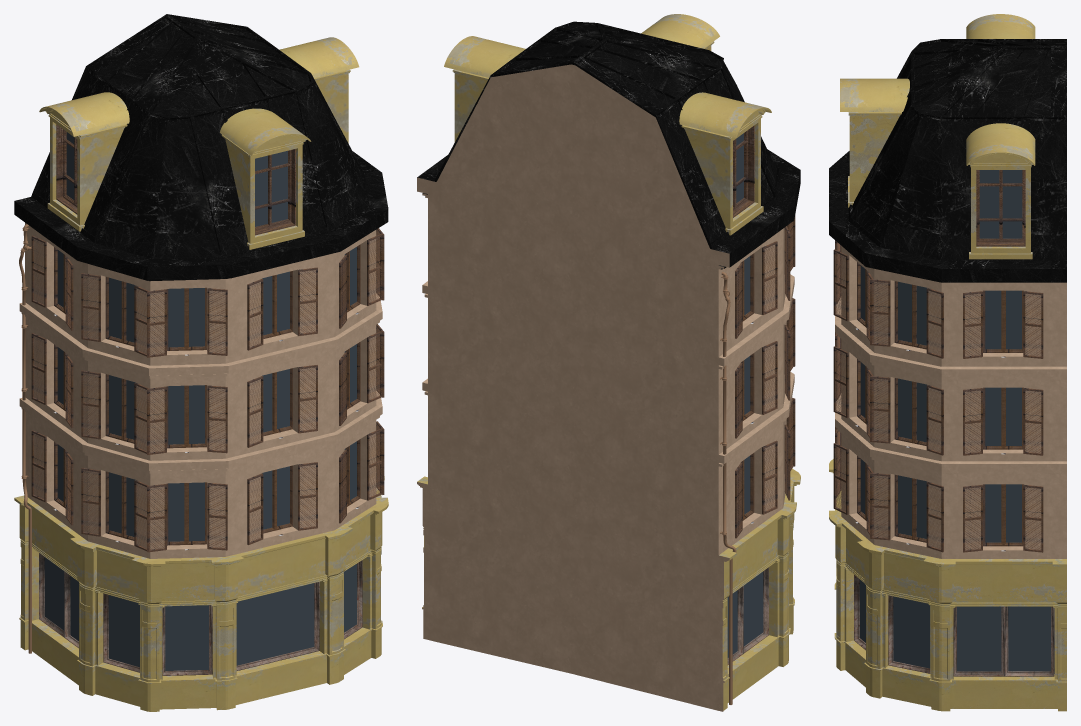
Rendered from block_end.fbx.
3 renders of one model, left to right at view 1: azimuth 30°, elevation 25°; view 2: azimuth 150°, elevation 25°; view 3: azimuth 270°, elevation 25°, orthographic. The views are drawn at different scales.
Parts seen in each view (by area): view 1: block_end; view 2: block_end; view 3: block_end.
Boxes of the visible parts, left/top/right/bottom form: block_end: left=14, top=14, right=388, bottom=711; block_end: left=417, top=14, right=800, bottom=711; block_end: left=829, top=14, right=1066, bottom=711.
Size of the model in its own units: 1024 by 695 by 1919.
Materials: 12 (9 with a texture image).
